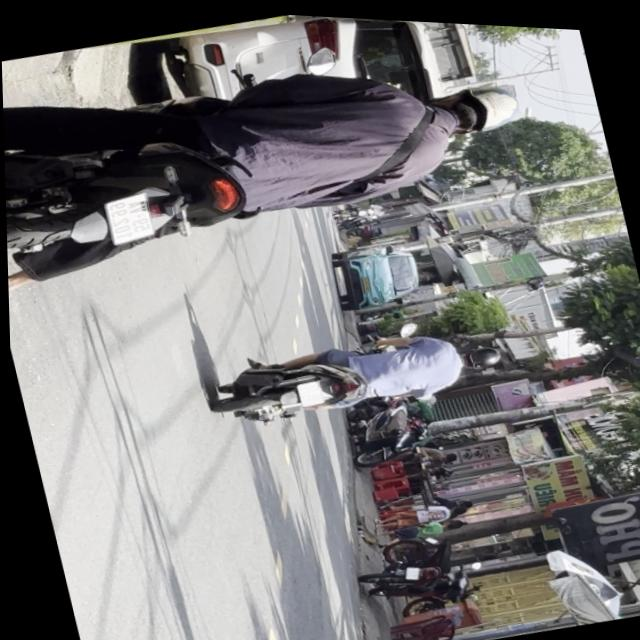helmet: (428, 71, 523, 140), (454, 337, 502, 370)
licenseplate: (0, 0, 546, 313), (201, 300, 510, 445)
nohelmet: (102, 190, 154, 245), (292, 375, 323, 404)
